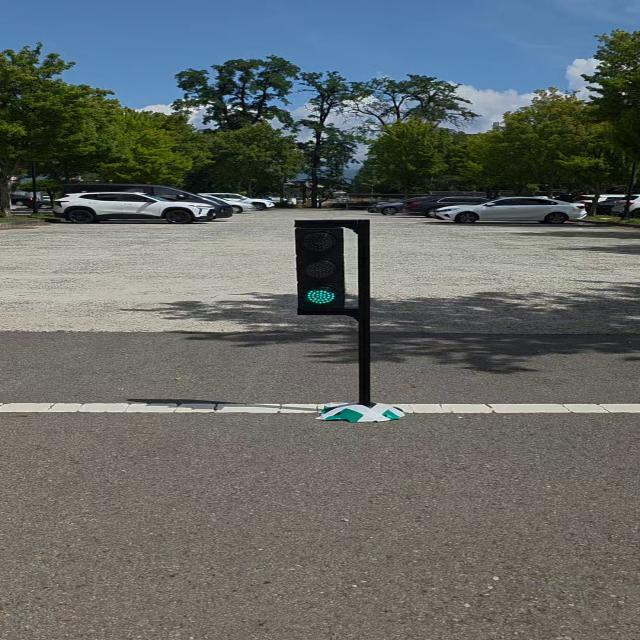green: (295, 220, 348, 313)
